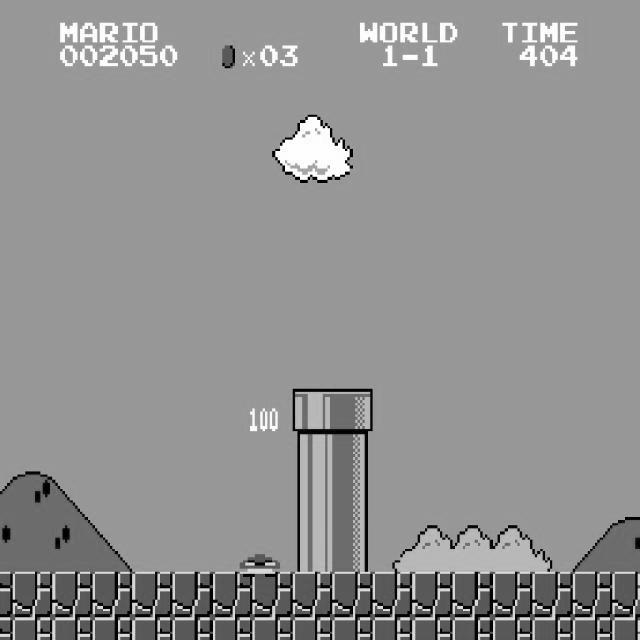11- little_mario: (255, 526, 298, 574)
14- pipe: (292, 434, 333, 480), (292, 480, 333, 526), (292, 526, 333, 572), (332, 434, 373, 480), (332, 480, 373, 526), (332, 526, 373, 572)
15- pipe_head: (292, 388, 333, 434), (332, 388, 373, 434)
17- undestructible_block: (12, 572, 53, 618), (52, 572, 93, 618), (92, 572, 133, 618), (132, 572, 173, 618), (172, 572, 213, 618), (212, 572, 253, 618), (252, 572, 293, 618), (292, 572, 333, 618), (332, 572, 373, 618), (372, 572, 413, 618), (412, 572, 453, 618), (452, 572, 493, 618), (492, 572, 533, 618), (532, 572, 573, 618), (572, 572, 613, 618), (612, 572, 640, 618), (12, 617, 53, 640), (52, 617, 93, 640), (92, 617, 133, 640), (132, 617, 173, 640), (172, 617, 213, 640), (212, 617, 253, 640), (252, 617, 293, 640), (292, 617, 333, 640), (332, 617, 373, 640), (372, 617, 413, 640), (412, 617, 453, 640), (452, 617, 493, 640), (492, 617, 533, 640), (532, 617, 573, 640), (572, 617, 613, 640), (612, 617, 640, 640), (0, 572, 13, 618), (0, 617, 13, 640)
